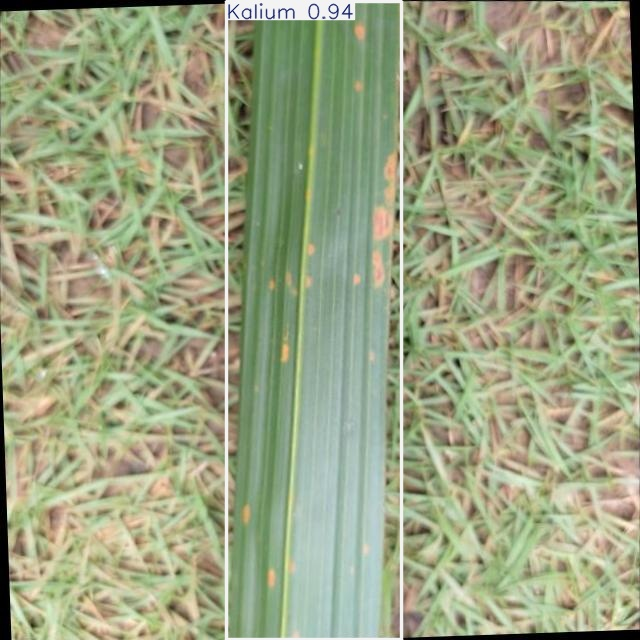Kalium: (226, 1, 402, 639)
